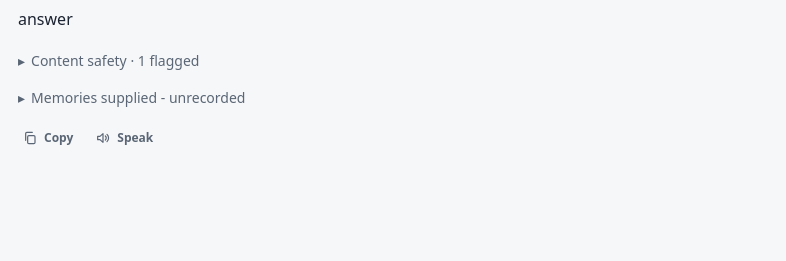
Test: MessageList content-safety panel › shows a partial content-filter assessment error
This screenshot has width=786, height=261.
Click the heading "Content safety · 1 flagged": (115, 61) [31,51,199,70]
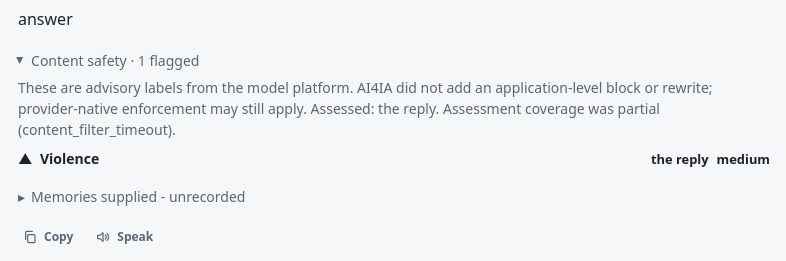
Expected: the text "Assessment coverage was partial (content_filter_timeout)" is shown, [18,99,660,139]
